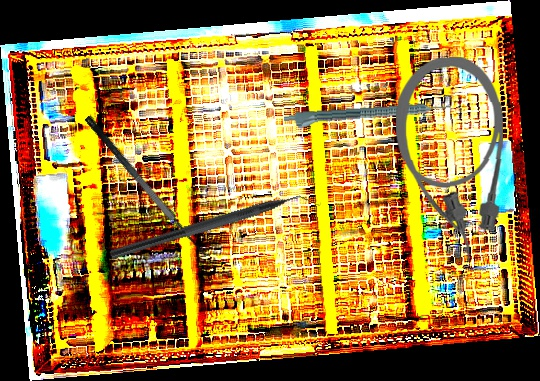Cannula: (394, 56, 506, 263)
Chopper: (107, 182, 324, 275)
Handpiece: (283, 101, 452, 131)
Spatula Surgical: (82, 104, 219, 264)
